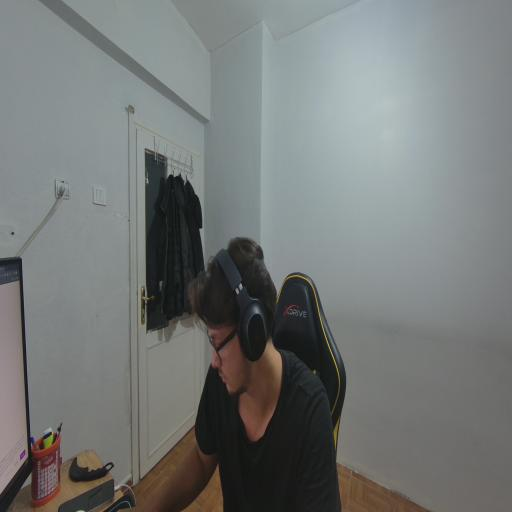cuma-face-v2: (193, 231, 292, 409)
